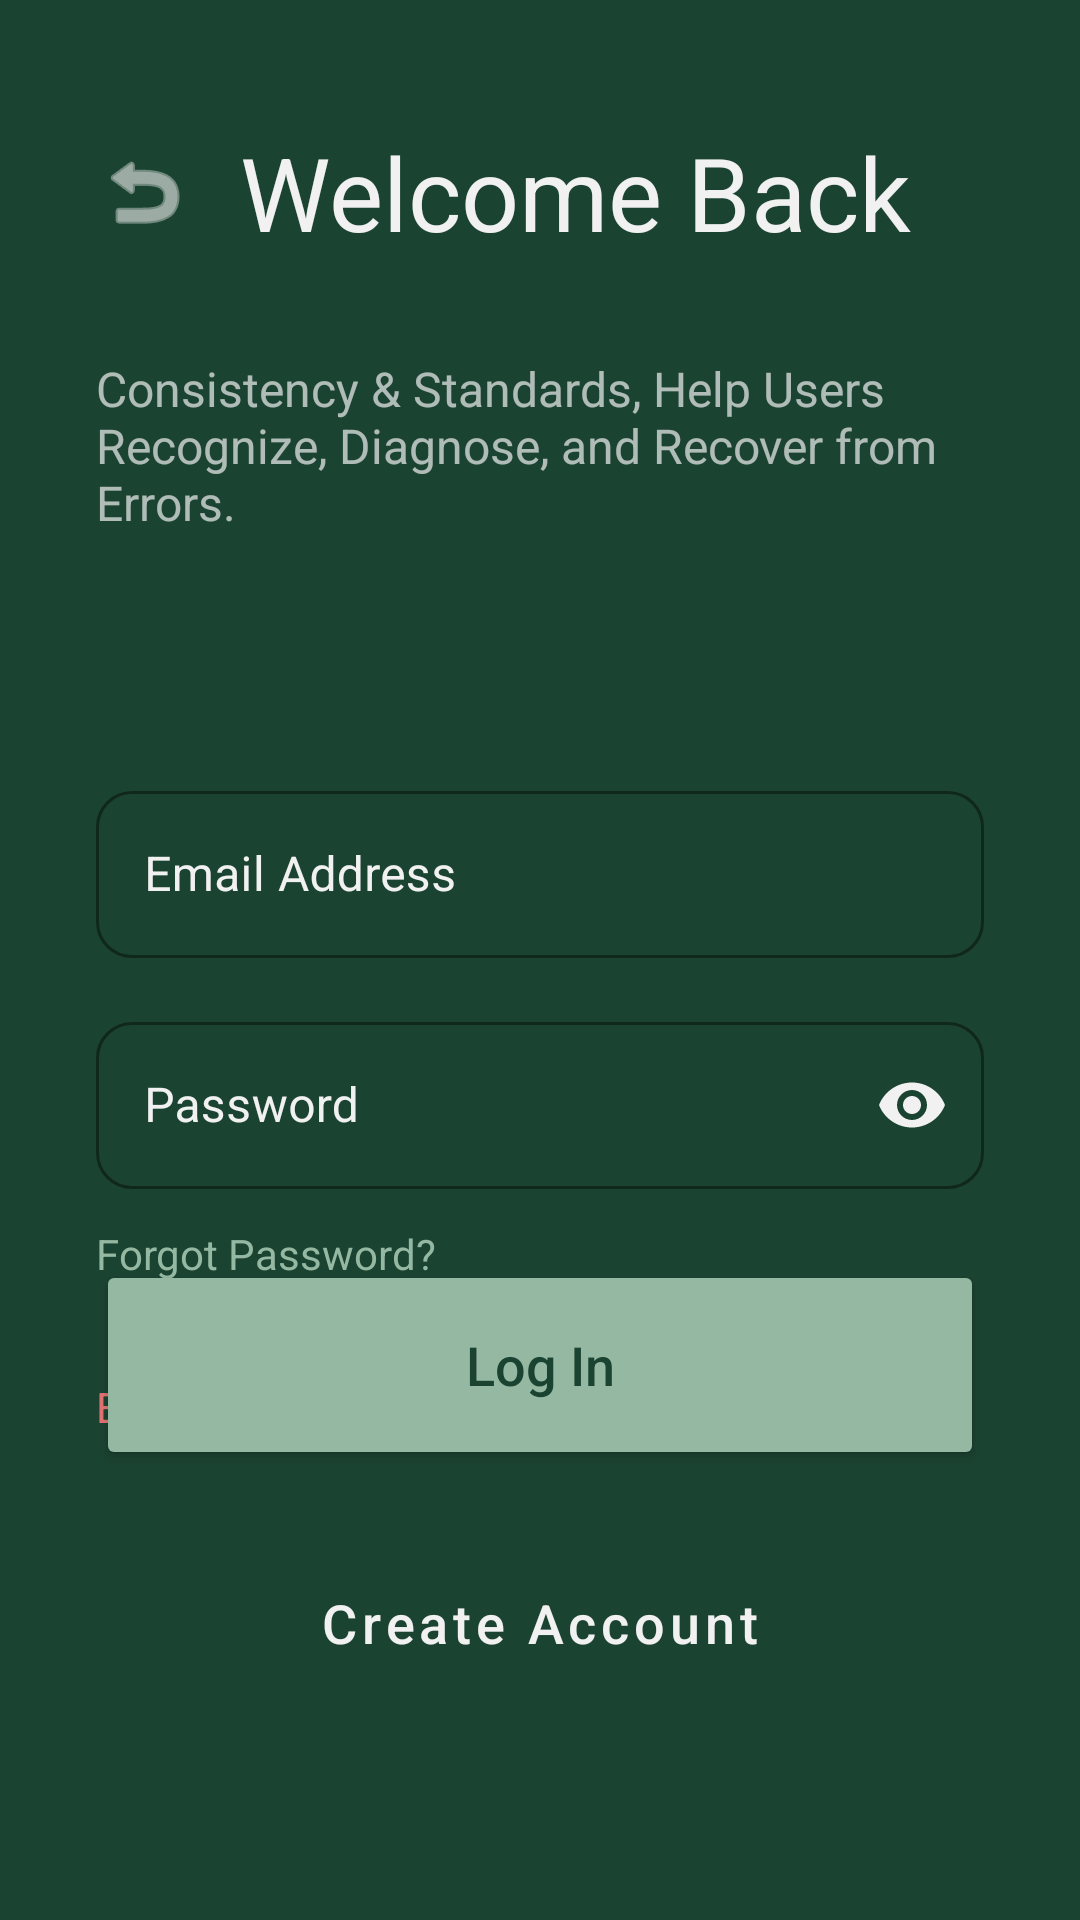

Icons on this 1080 x 1920 Android screen, each with the point to tap as [x,y]:
revert: [145,192]
